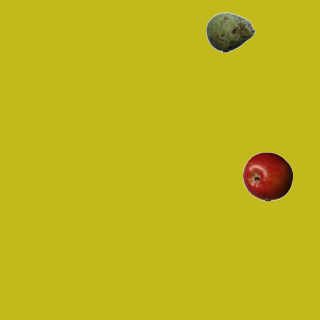Apple Braeburn: (242, 151, 292, 201)
Pear Stone: (205, 7, 255, 57)
